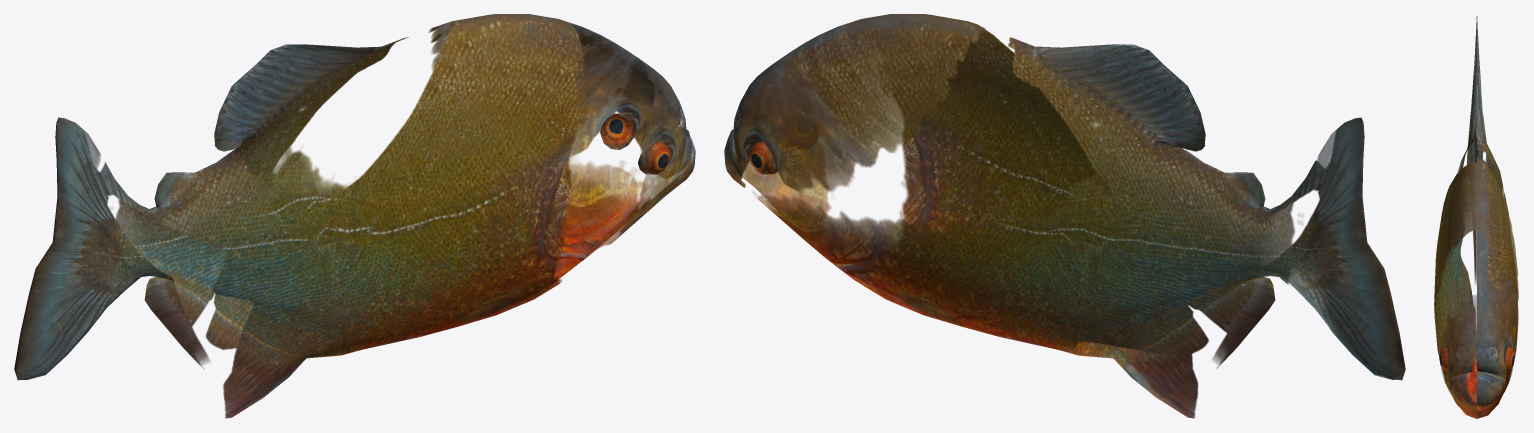
The model's file is fw_piranha.glb.
The picture shows the model from 3 angles, left to right: view 1: azimuth 30°, elevation 25°; view 2: azimuth 150°, elevation 25°; view 3: azimuth 270°, elevation 25°; orthographic projection. The views are drawn at different scales.
Visible parts, largest first — view 1: Piranha_body_0, Piranha_eye.001_2, Piranha_fin_3; view 2: Piranha_body_0, Piranha_eye.001_2, Piranha_fin.001_4; view 3: Piranha_body_0, Piranha_eye.001_2.
Boxes of the visible parts, <box> form: Piranha_body_0: <box>14,14,695,418</box>; Piranha_eye.001_2: <box>600,113,671,174</box>; Piranha_fin_3: <box>456,289,524,323</box>; Piranha_body_0: <box>724,14,1405,418</box>; Piranha_eye.001_2: <box>748,136,816,174</box>; Piranha_fin.001_4: <box>894,289,961,323</box>; Piranha_body_0: <box>1434,16,1518,418</box>; Piranha_eye.001_2: <box>1439,345,1514,372</box>.
Bounding box in the file's own units: 0.3198 × 0.1622 × 0.0457.
1 material, 1 textured.
